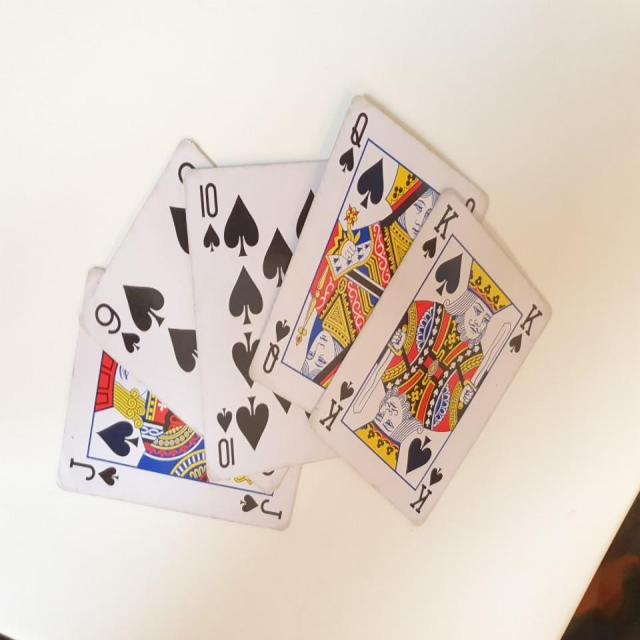10 Spades: (185, 170, 332, 483)
9 Spades: (74, 124, 267, 458)
J Spades: (53, 256, 304, 537)
K Spades: (304, 184, 555, 544)
Q Spades: (252, 90, 475, 405)
